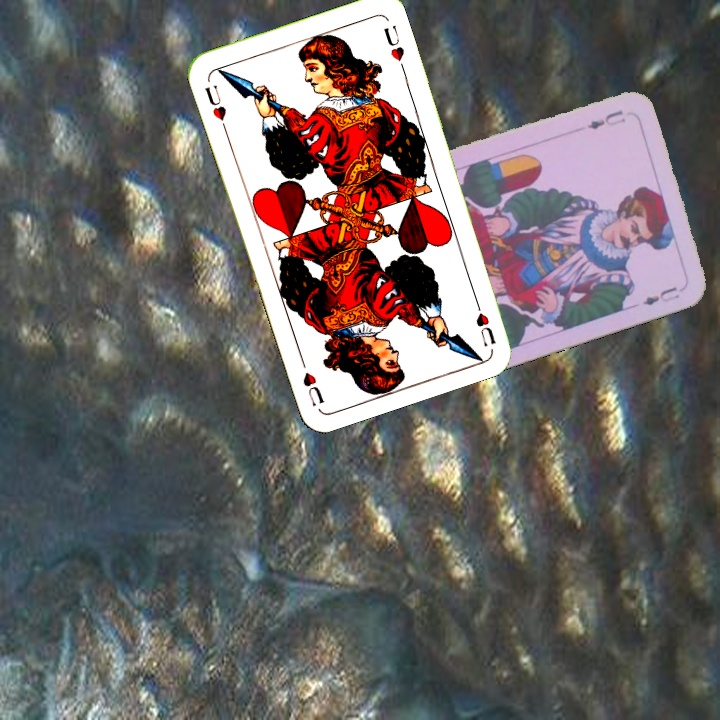EU: (583, 106, 628, 132)
HU: (470, 292, 498, 349), (200, 80, 230, 133)
